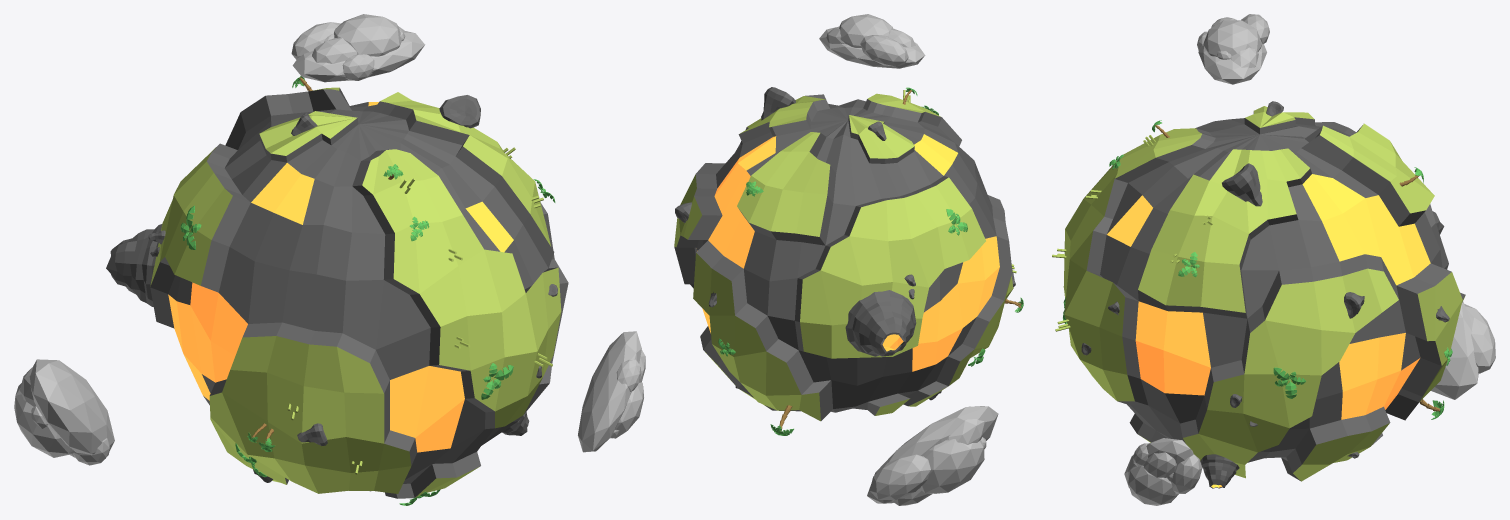
File: Lava.glb
The picture shows the model from 3 angles, left to right: view 1: azimuth 30°, elevation 25°; view 2: azimuth 150°, elevation 25°; view 3: azimuth 270°, elevation 25°; orthographic projection. The views are drawn at different scales.
Visible parts, largest first — view 1: Object_8, Object_7, Object_6, Object_3, Object_2; view 2: Object_8, Object_7, Object_6, Object_3, Object_2; view 3: Object_7, Object_8, Object_3, Object_6, Object_2.
Part boxes in pixels (box(x1,y1,x2,y2)): Object_8: box(106, 88, 568, 498); Object_7: box(150, 87, 561, 497); Object_6: box(14, 14, 645, 465); Object_3: box(168, 102, 513, 452); Object_2: box(180, 76, 555, 505); Object_8: box(674, 87, 1015, 420); Object_7: box(674, 90, 1016, 421); Object_6: box(819, 14, 998, 505); Object_3: box(697, 134, 999, 371); Object_2: box(718, 87, 1023, 435); Object_7: box(1052, 106, 1464, 481); Object_8: box(1081, 101, 1465, 488); Object_3: box(1107, 174, 1430, 487); Object_6: box(1124, 14, 1495, 505); Object_2: box(1063, 120, 1452, 419).
Bounding box in the file's own units: 16.17 × 15.26 × 14.07.
